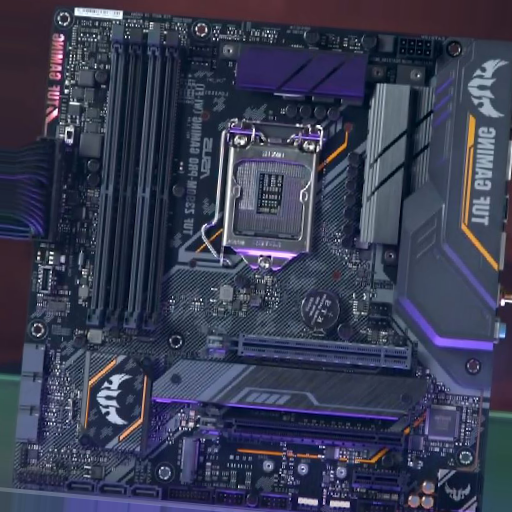CPU: (225, 120, 321, 273)
GPU: (196, 411, 407, 453), (210, 327, 411, 370)
MOTHERBOARD: (10, 12, 511, 512)
RAM: (89, 21, 182, 332)
SSD: (178, 436, 201, 484)
